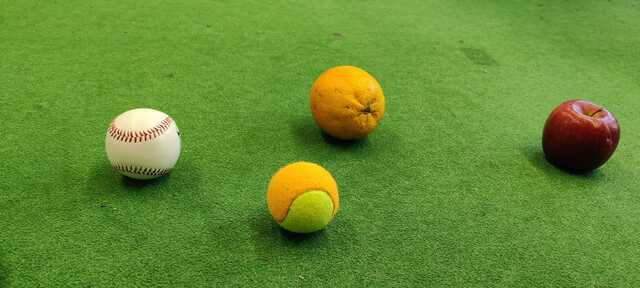013_apple: (542, 99, 621, 175)
017_orange: (310, 65, 386, 140)
055_baseball: (105, 107, 181, 181)
056_tennis_ball: (266, 160, 339, 234)
